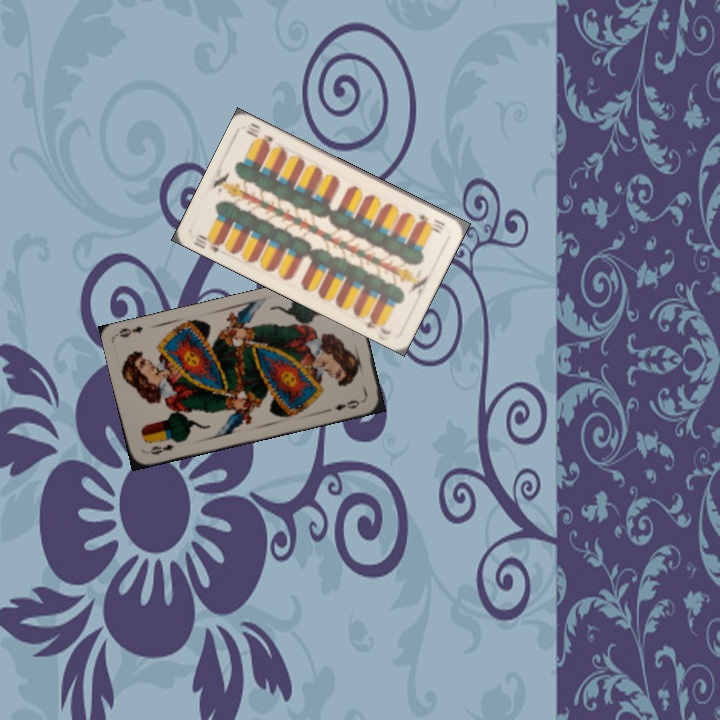E10: (190, 230, 226, 255), (415, 210, 448, 234)
EO: (143, 436, 182, 457)
